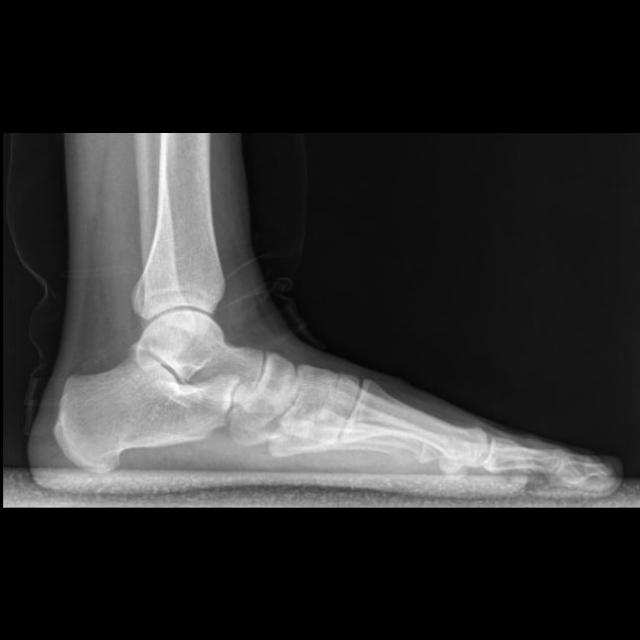a: (55, 350, 240, 471)
b: (232, 352, 299, 425)
c: (340, 378, 489, 476)
